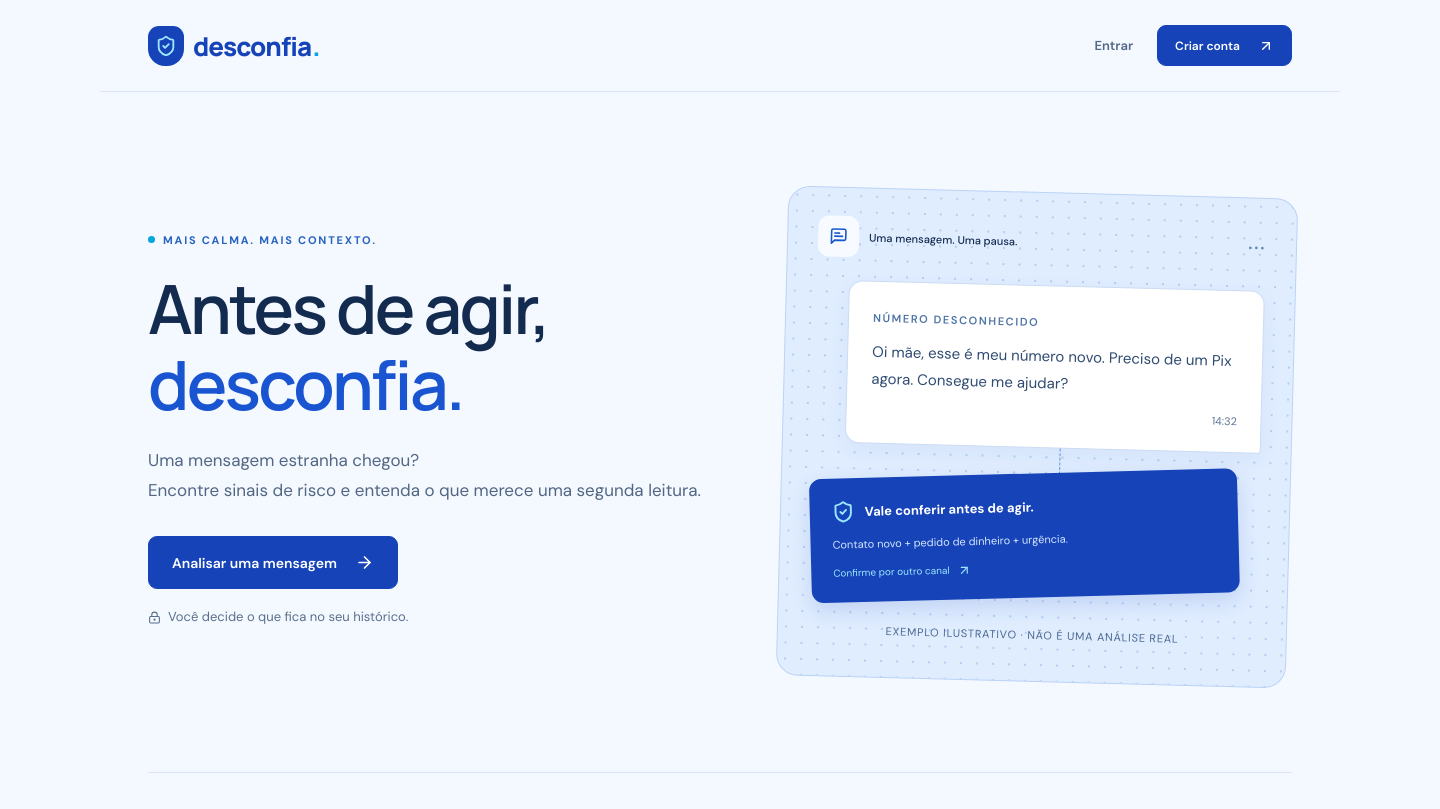
Test: Fluxos do Desconfia › preserva o texto digitado quando a análise falha com erro 429
Click the button "Entrar". click: (1114, 46)
box: [1094,29,1133,62]
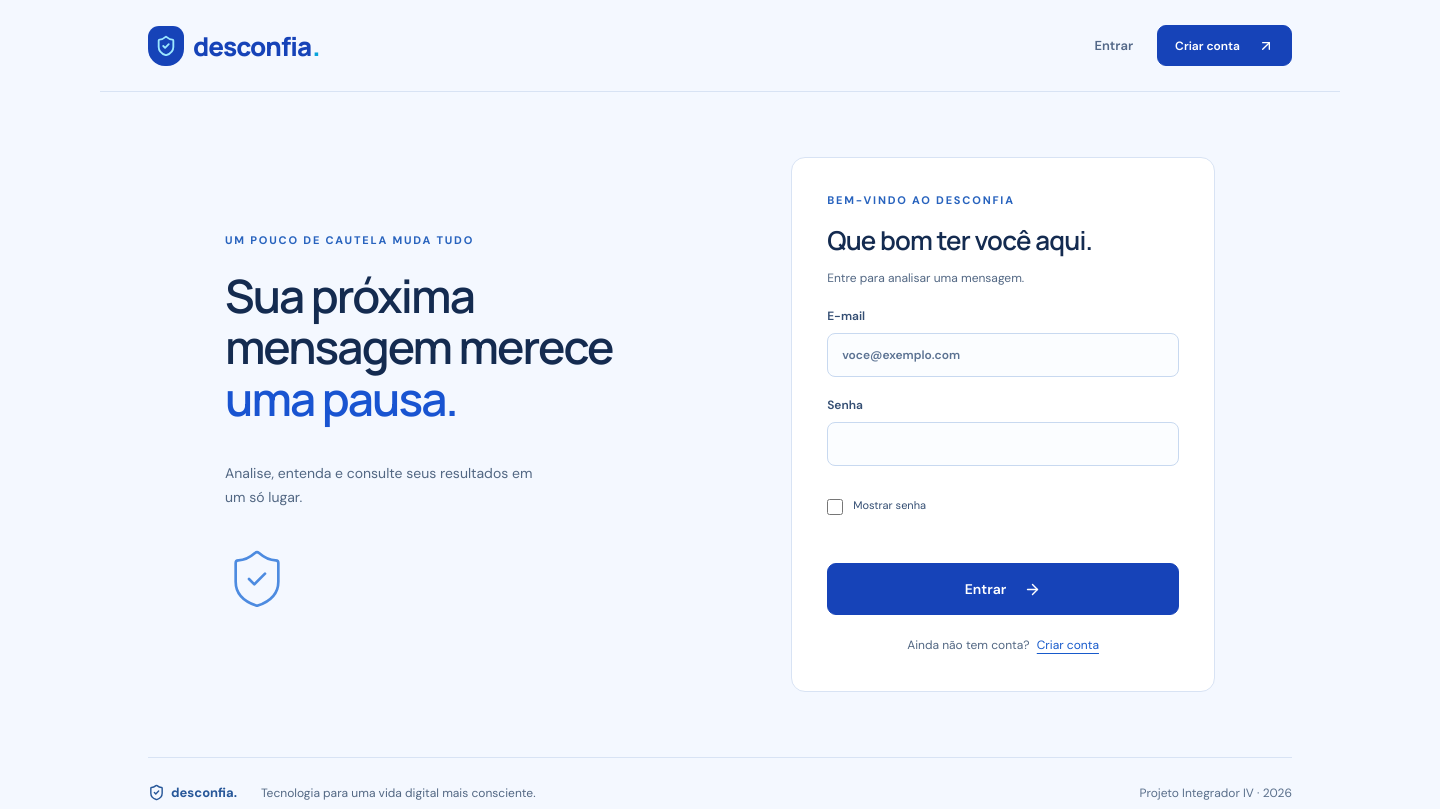
Type "teste@example.com" into the field labelled "E-mail". click: (1003, 355)
box: [827,333,1179,377]
Type "Teste123!" into the password field labelled "Senha". click: (1003, 444)
box: [827,422,1179,466]
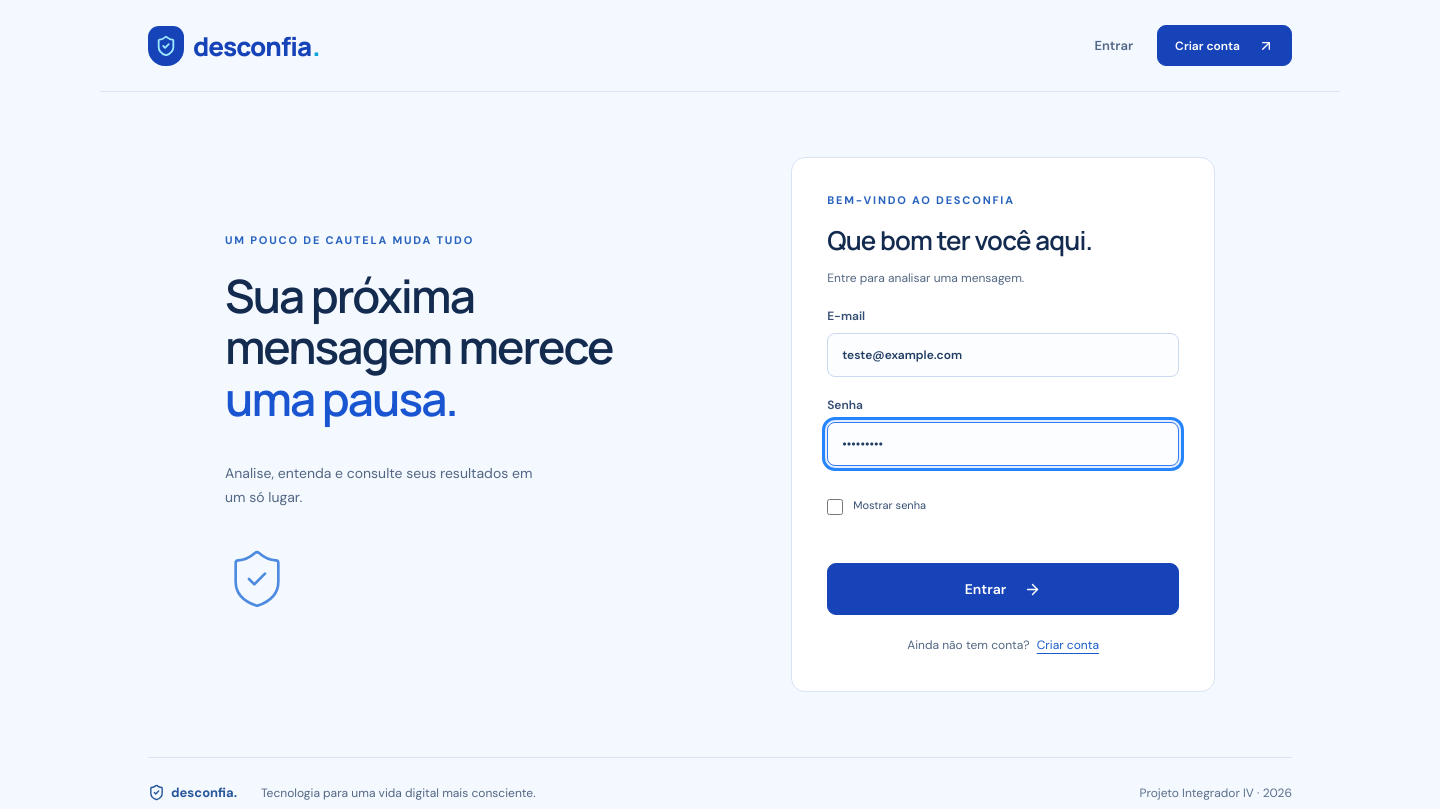
Click the button "Entrar" below "Mostrar senha". click: (1003, 589)
box: [827,563,1179,615]
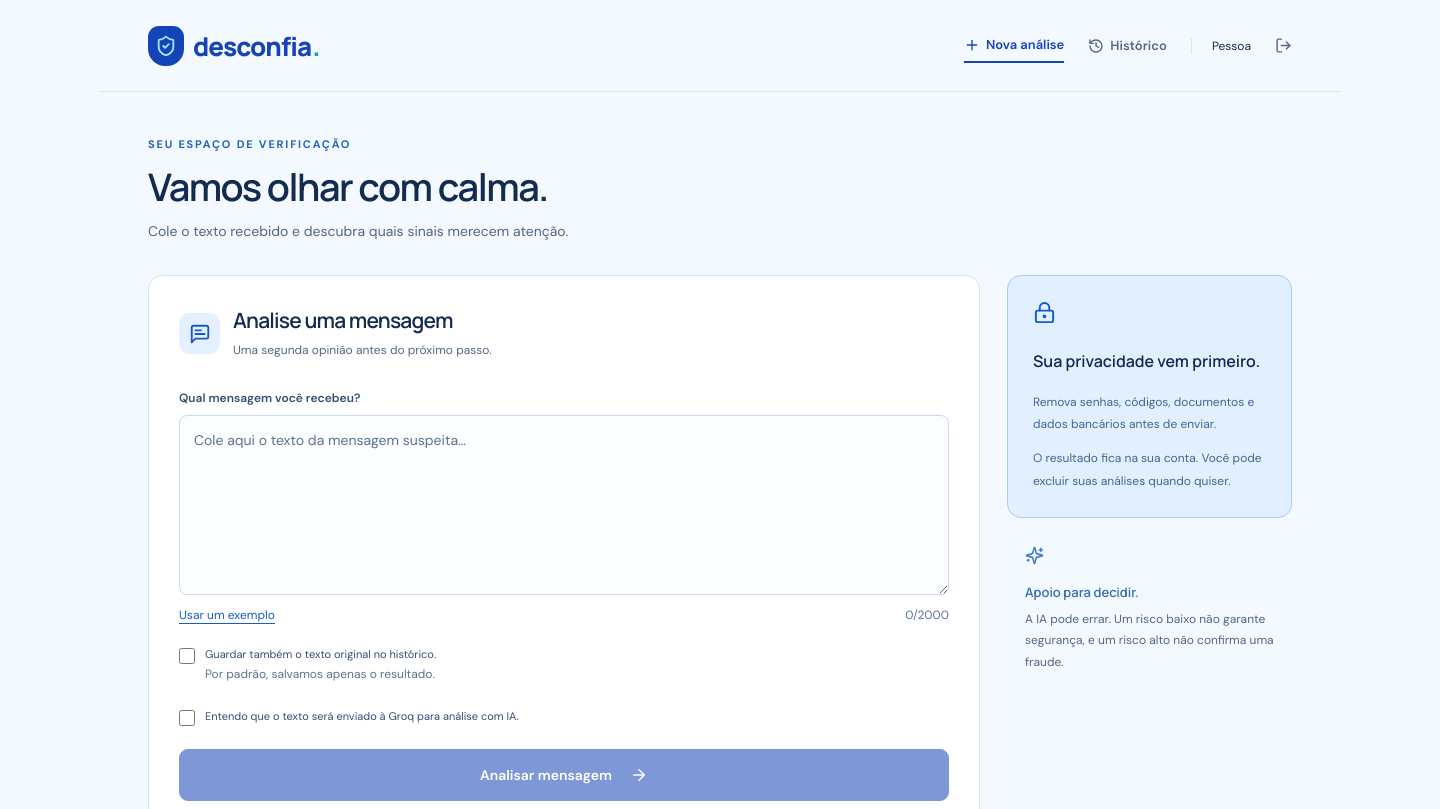
Expected: the heading "Vamos olhar com calma." is shown, [148,160,548,212]
Type "Mensagem importante que não pode sumir" into the text box labelled "Qual mensagem você recebeu?". click: (564, 505)
box: [179,415,949,595]
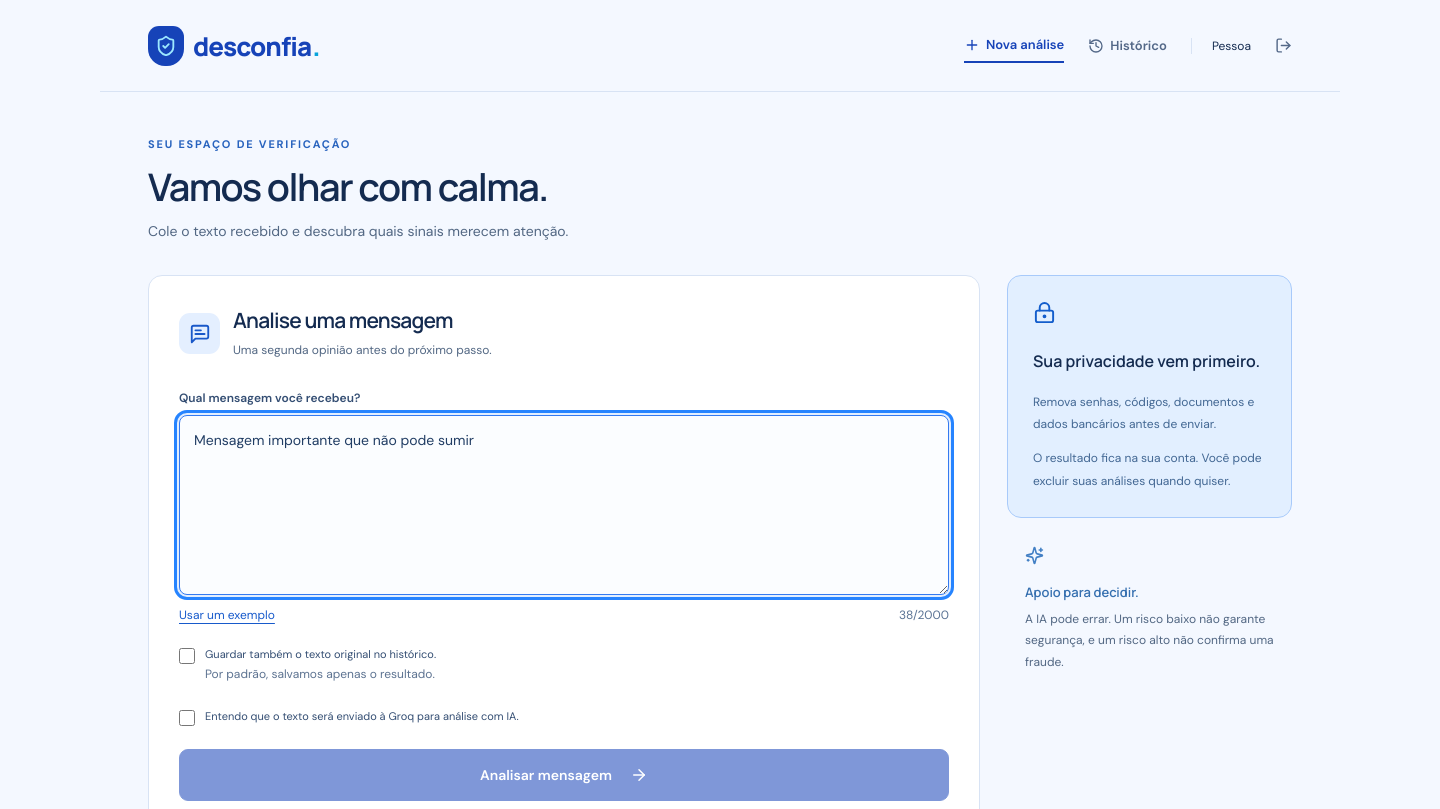
Click the checkbox labelled "Entendo que o texto será enviado à Groq para análise com IA.". click: (187, 718)
box: [179,710,195,726]
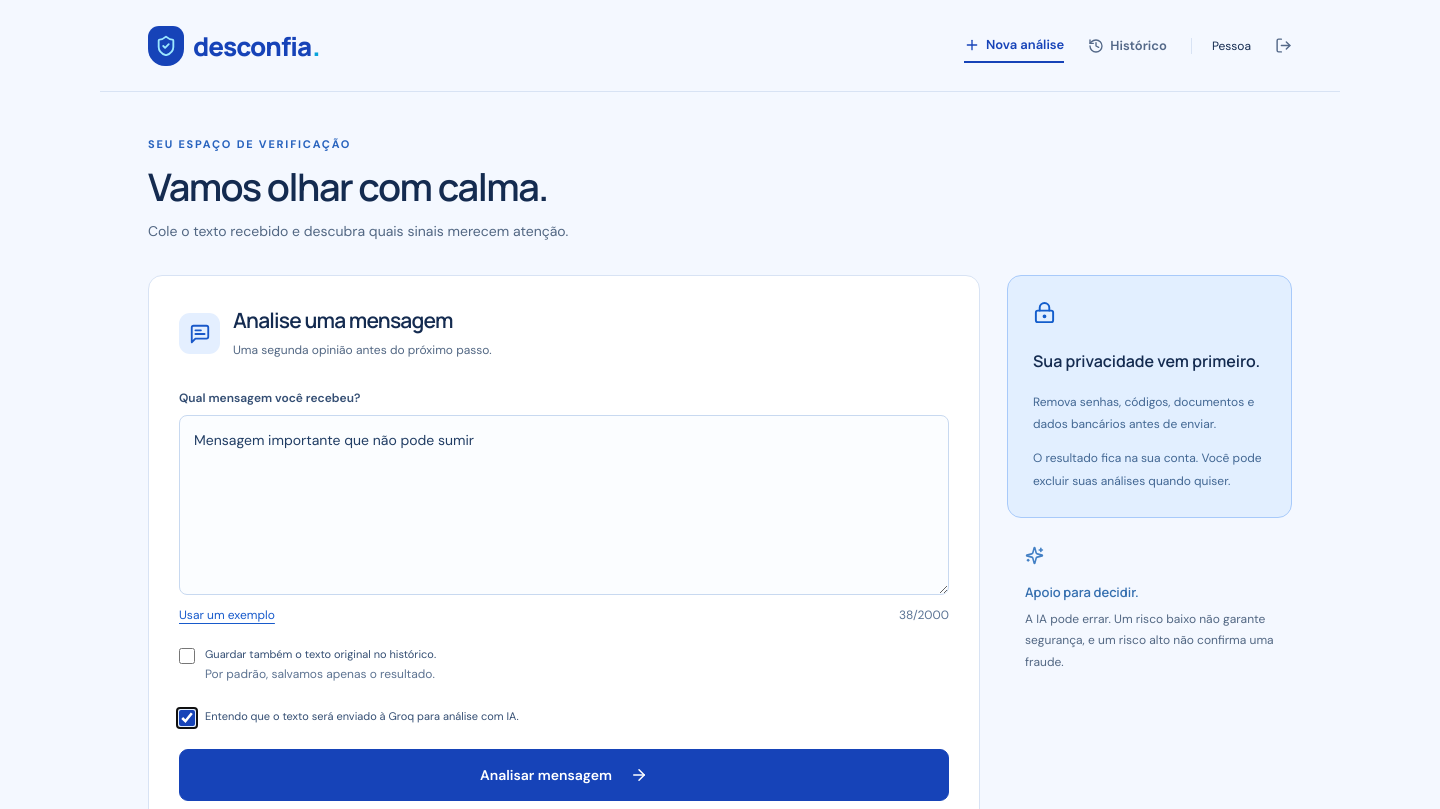
Click the button "Analisar mensagem". click: (564, 774)
box: [179,748,949,800]
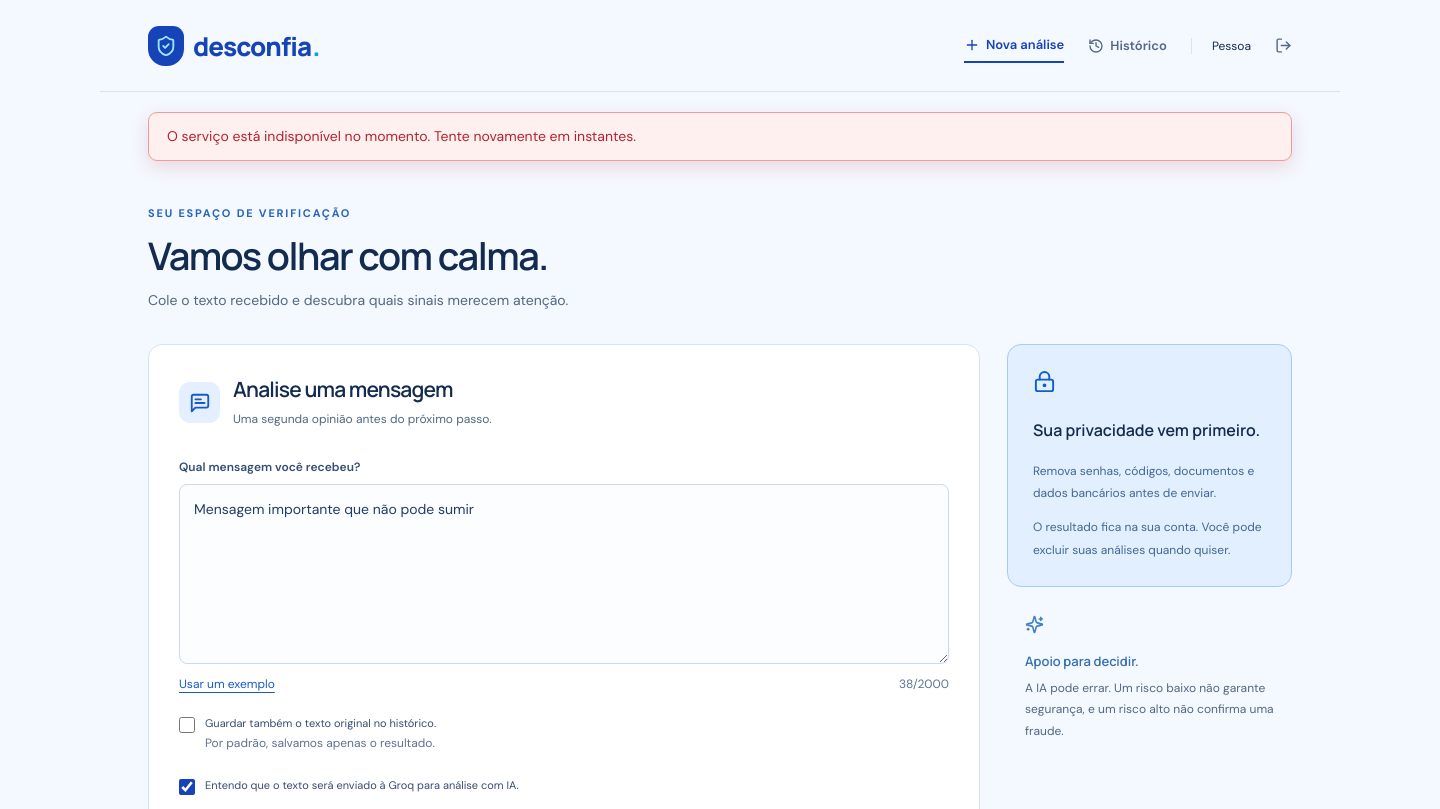
Expected: the message shows "O serviço está indisponível", [167,127,636,145]
